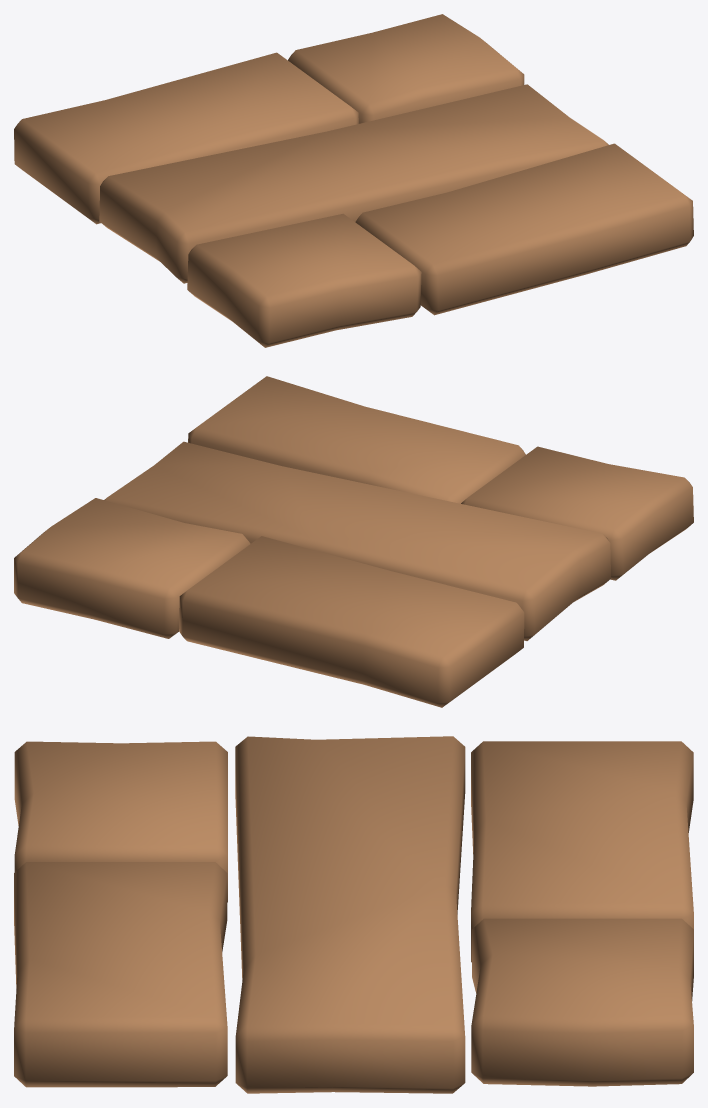
The model's file is SM_Planks_2.fbx.
3 views of the same model, one above another, from view 1: azimuth 30°, elevation 25°; view 2: azimuth 150°, elevation 25°; view 3: azimuth 270°, elevation 25° (orthographic). The views are drawn at different scales.
Visible parts, largest first — view 1: SM_Planks_2; view 2: SM_Planks_2; view 3: SM_Planks_2.
Boxes of the visible parts, box(x1,y1,x2,y2) form: SM_Planks_2: box(14, 14, 693, 347); SM_Planks_2: box(14, 376, 693, 707); SM_Planks_2: box(14, 736, 693, 1093).
Size of the model in its own units: 2.26 by 0.3129 by 2.24.
